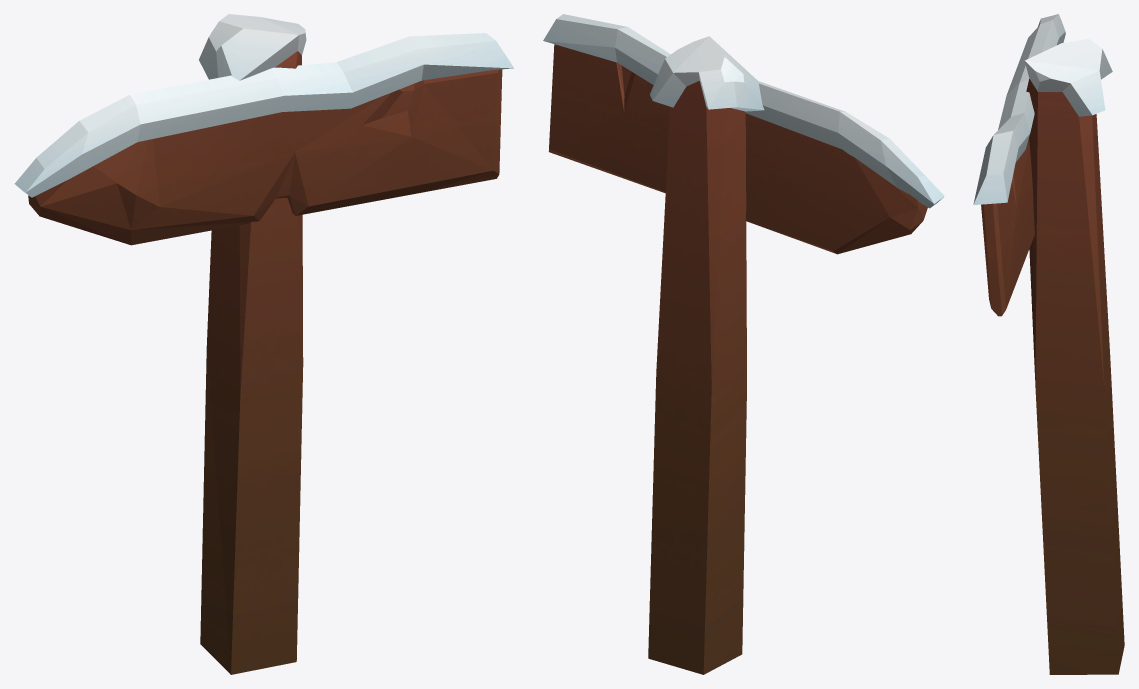
3 views of the same model, side by side, from view 1: azimuth 30°, elevation 25°; view 2: azimuth 150°, elevation 25°; view 3: azimuth 270°, elevation 25° (orthographic). The views are drawn at different scales.
Parts seen in each view (by area): view 1: SnowySignpost; view 2: SnowySignpost; view 3: SnowySignpost.
Part boxes in pixels (x1,y1,x2,y2): SnowySignpost: (14, 14, 513, 674); SnowySignpost: (543, 14, 944, 674); SnowySignpost: (973, 14, 1124, 674).
Size of the model in its own units: 332 by 450 by 101.
Materials: 1 (1 with a texture image).
